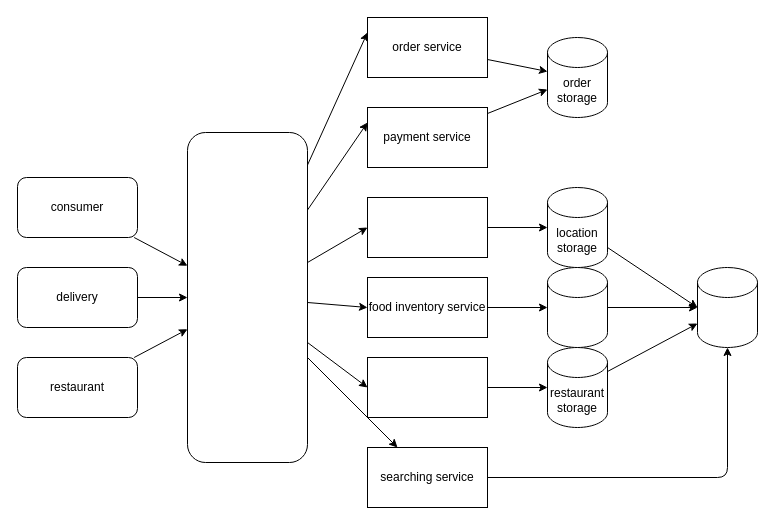
Image size: 775x525. Some labels were removed from this diagram. Each missing label, with the box of its shape:
API gateway: (186, 132, 308, 462)
food storage: (546, 266, 608, 348)
location service: (366, 196, 488, 258)
restaurant listing service: (366, 356, 488, 418)
search db: (696, 266, 758, 348)
